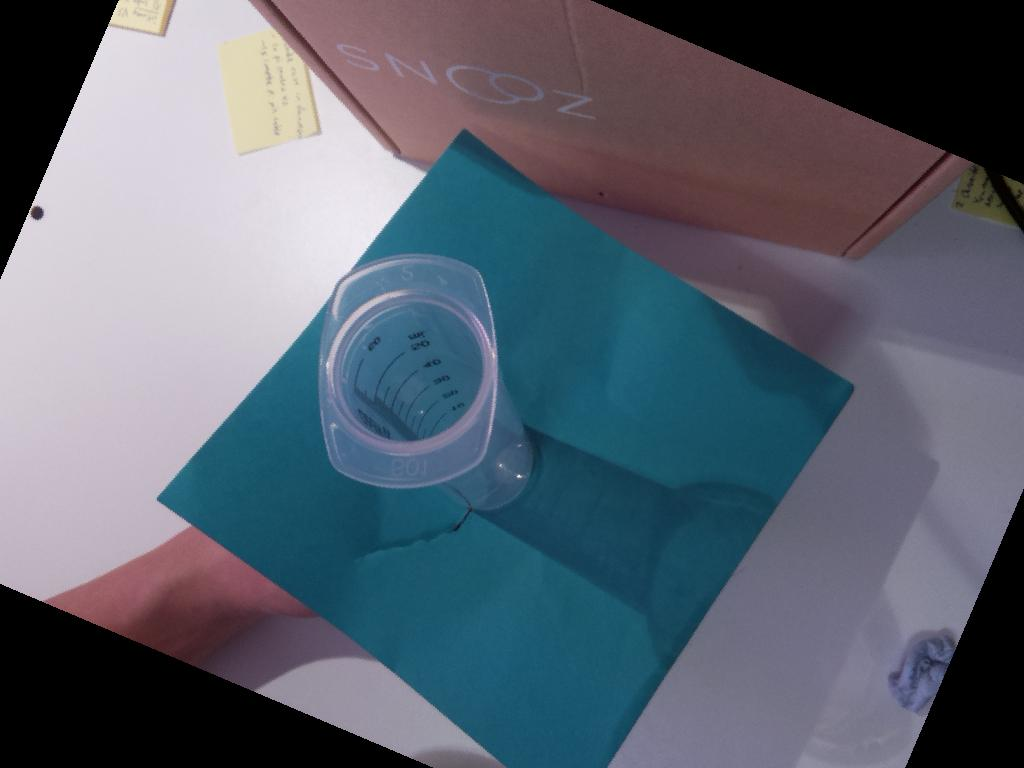clean: (317, 253, 499, 489)
